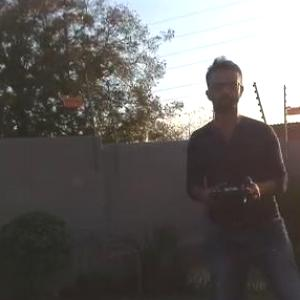follow: (182, 51, 300, 299)
